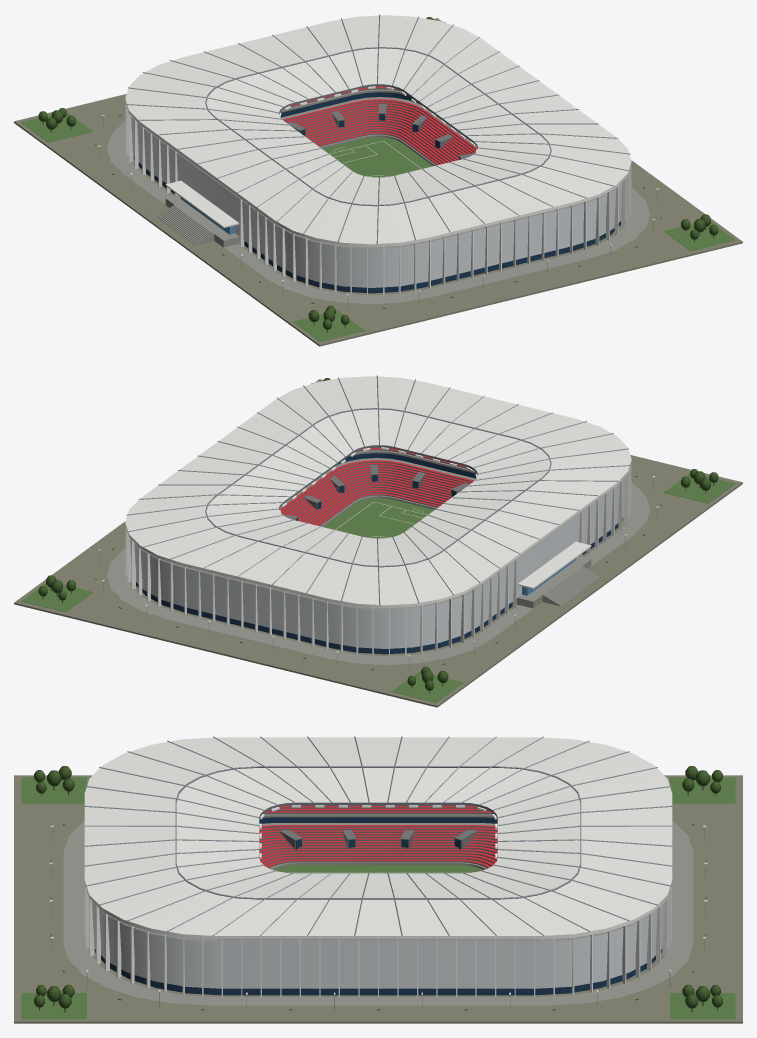
File: top-prebuilt_close.fbx
3 renders of one model, top to bottom at view 1: azimuth 30°, elevation 25°; view 2: azimuth 150°, elevation 25°; view 3: azimuth 270°, elevation 25°, orthographic. The views are drawn at different scales.
Visible parts, largest first — view 1: a1093/0/top-prebuilt_close; view 2: a1093/0/top-prebuilt_close; view 3: a1093/0/top-prebuilt_close.
Boxes of the visible parts, <box> form: a1093/0/top-prebuilt_close: <box>14,14,742,346</box>; a1093/0/top-prebuilt_close: <box>14,375,742,707</box>; a1093/0/top-prebuilt_close: <box>14,736,742,1023</box>.
Bounding box in the file's own units: 320 × 41.2 × 400.
